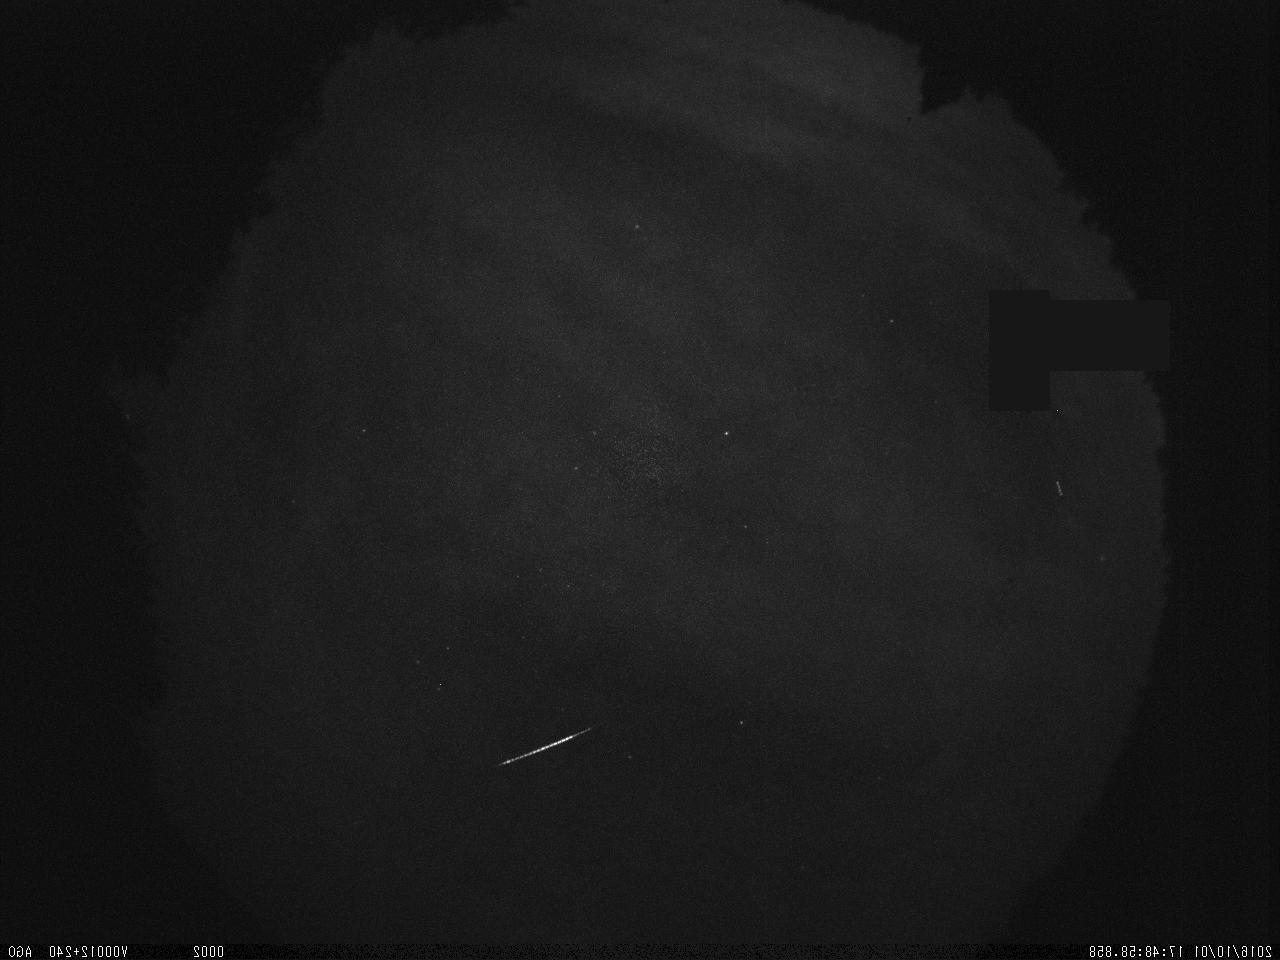meteor: (477, 697, 627, 793)
